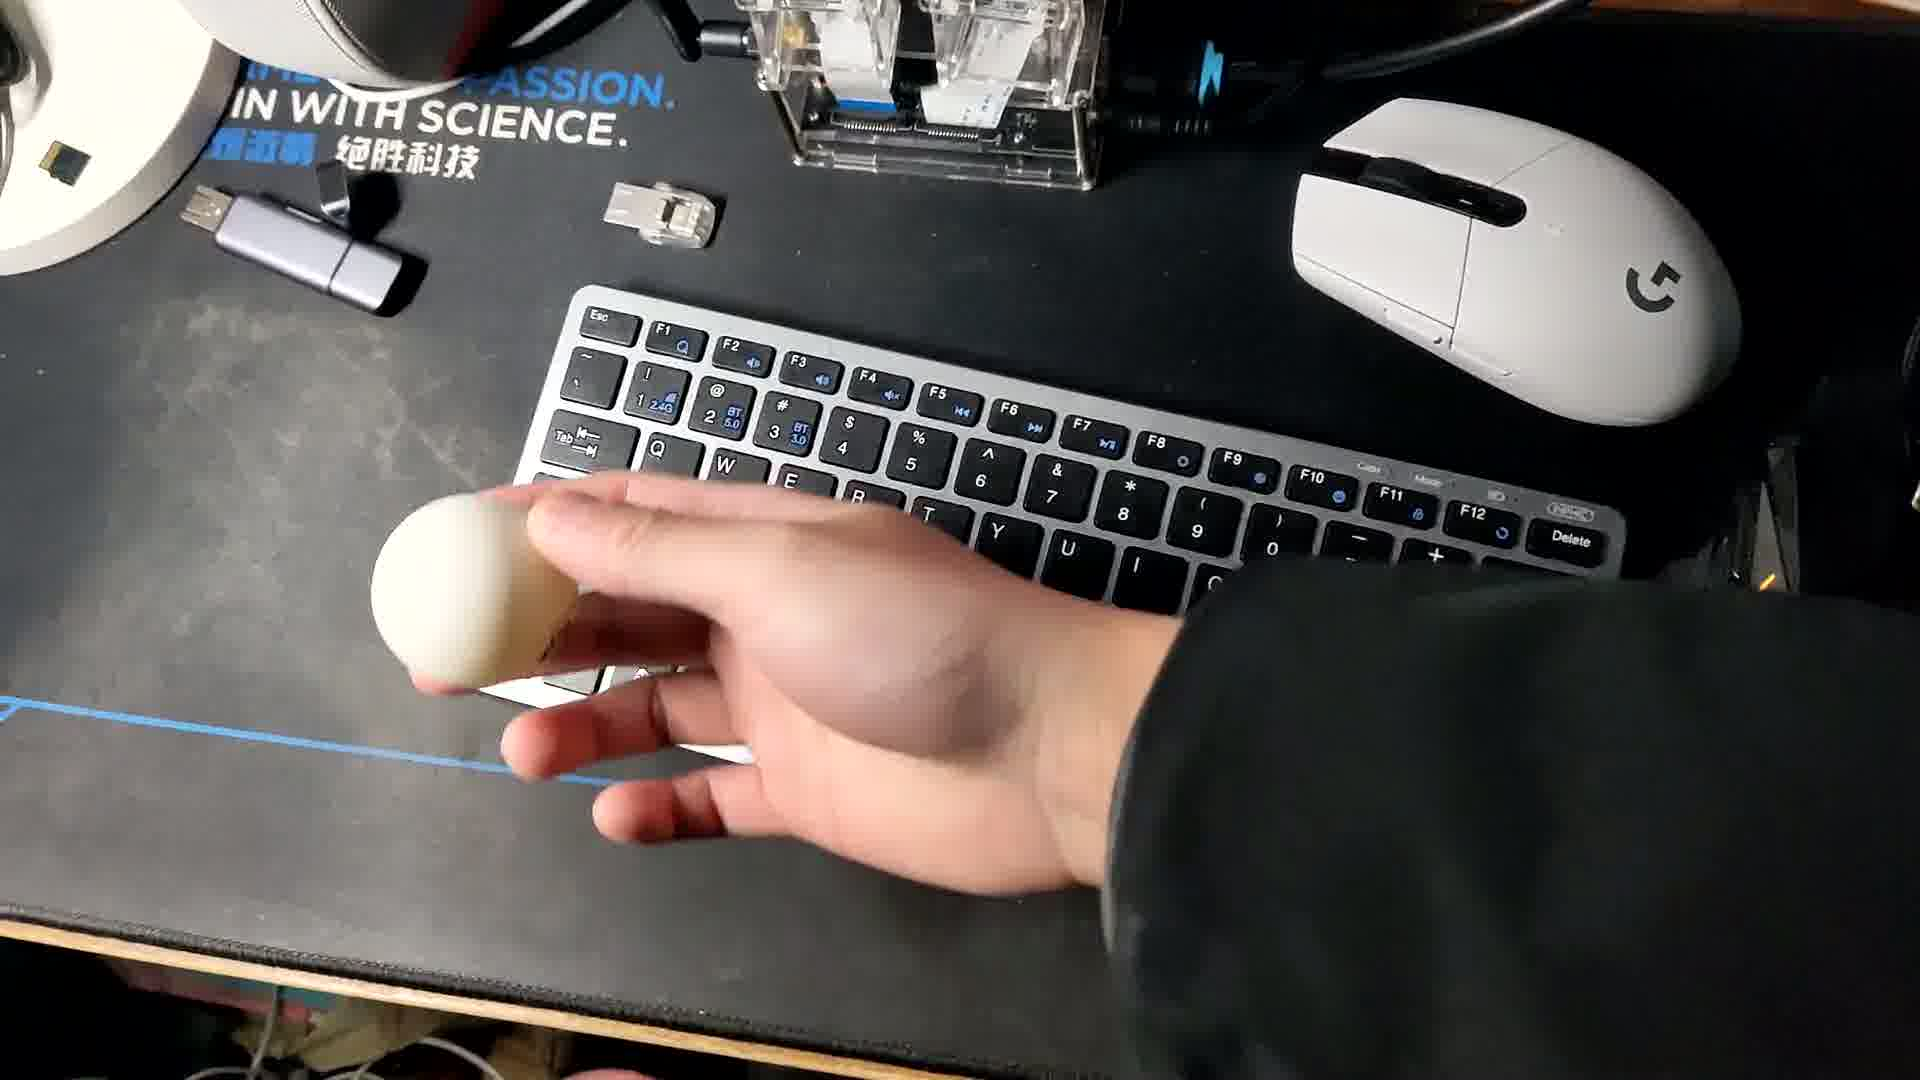Ball: (373, 491, 570, 688)
